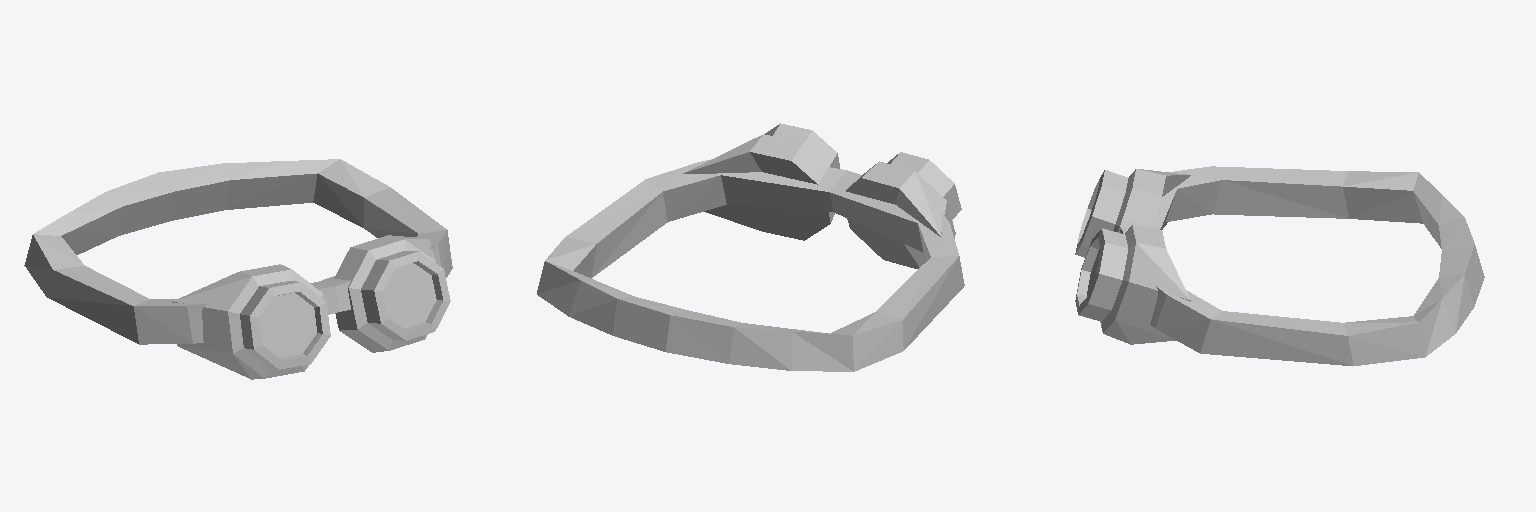
Rendered from SM_Chr_Attach_Blacksmith_Female_Goggles_01.obj.
The picture shows the model from 3 angles: view 1: azimuth 30°, elevation 25°; view 2: azimuth 150°, elevation 25°; view 3: azimuth 270°, elevation 25°; orthographic projection.
Visible parts, largest first — view 1: SM_Chr_Attach_Blacksmith_Female_Goggles_01; view 2: SM_Chr_Attach_Blacksmith_Female_Goggles_01; view 3: SM_Chr_Attach_Blacksmith_Female_Goggles_01.
Part boxes in pixels (left/top/right/bottom): SM_Chr_Attach_Blacksmith_Female_Goggles_01: left=24, top=159, right=452, bottom=379; SM_Chr_Attach_Blacksmith_Female_Goggles_01: left=537, top=123, right=964, bottom=371; SM_Chr_Attach_Blacksmith_Female_Goggles_01: left=1075, top=166, right=1484, bottom=365.
Bounding box in the file's own units: 29.04 × 8.14 × 29.85.